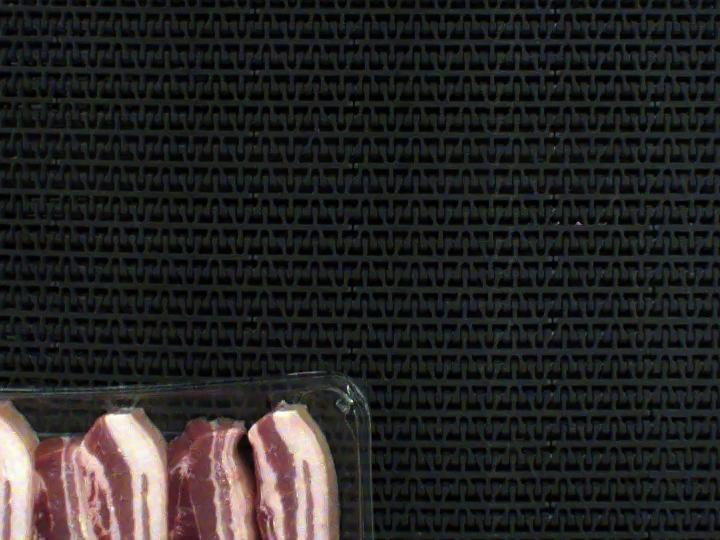packaging-error: (0, 373, 308, 455)
